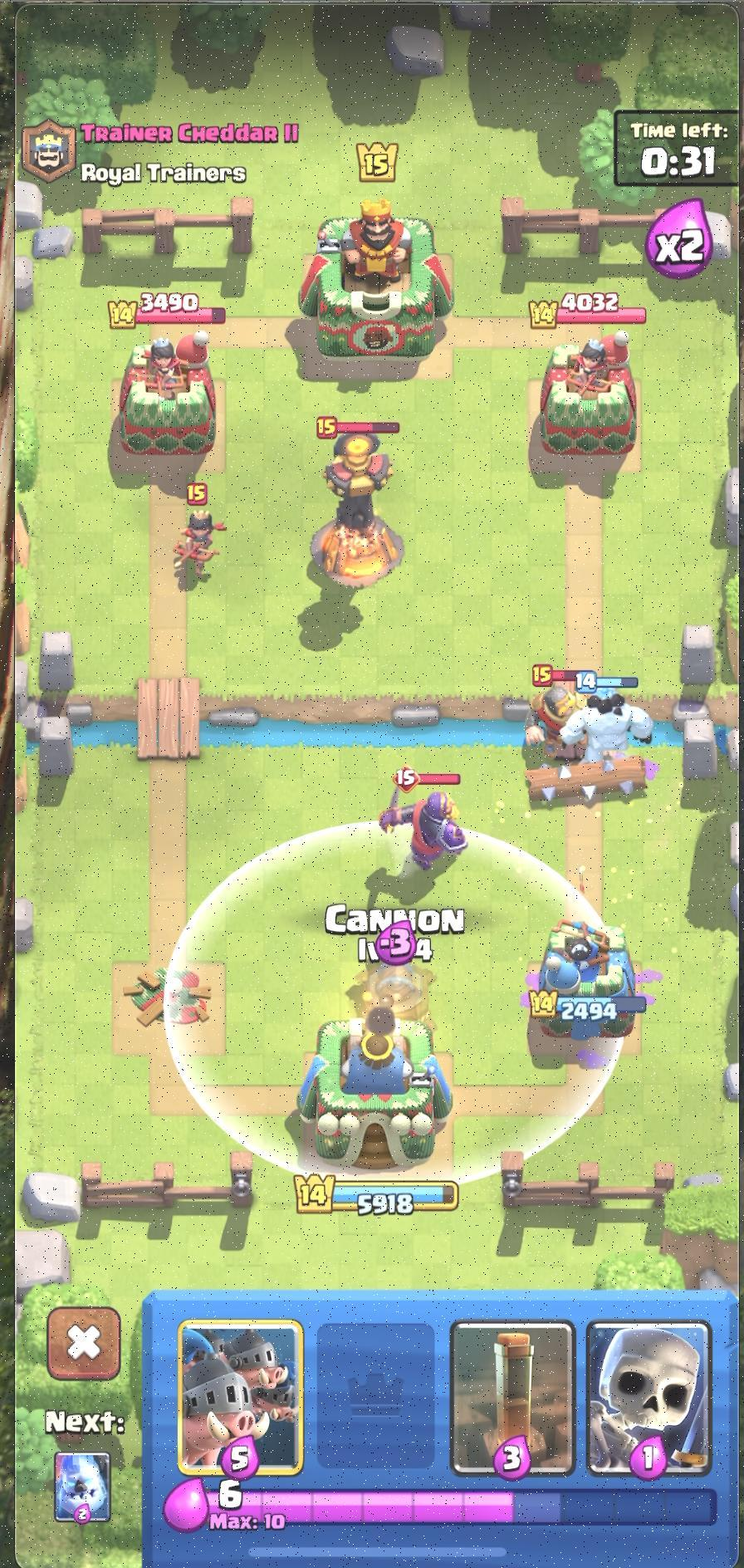card_earthquake: (448, 1318, 575, 1480)
card_icegolem: (54, 1449, 115, 1526)
card_royalhogs: (178, 1317, 306, 1477)
card_skeletons: (587, 1317, 717, 1482)
